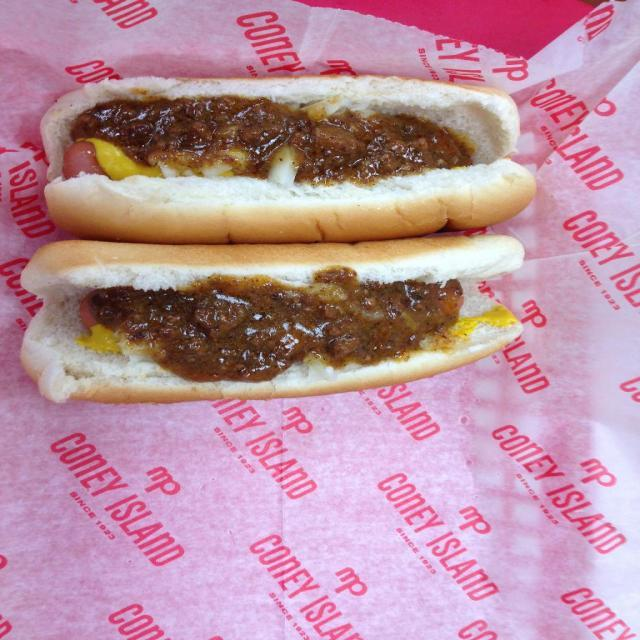Hot dog: (27, 73, 541, 251), (18, 239, 524, 405)
